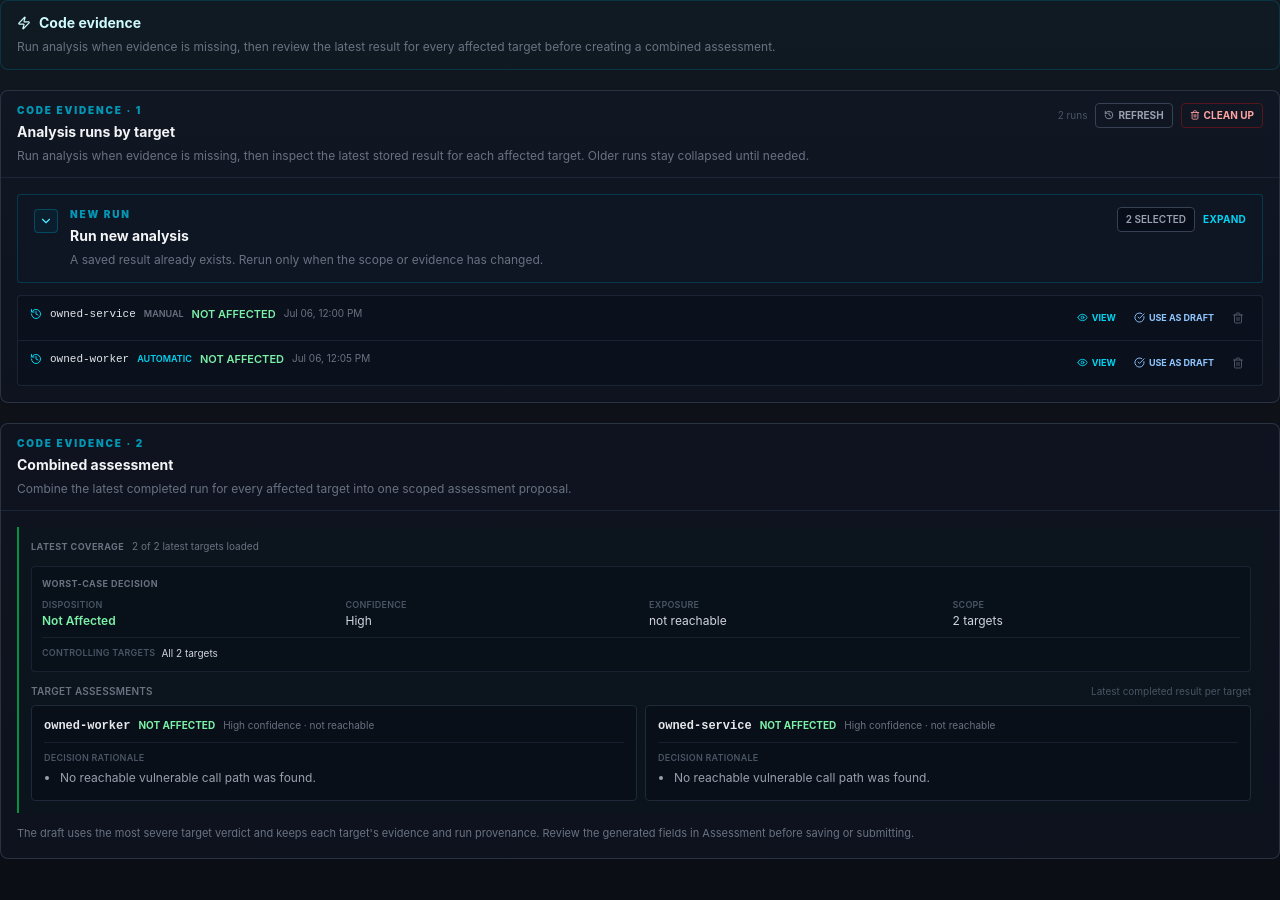
it: CodeAnalysisPanel › removes a saved analysis run from the card history
Click the button named "Remove analysis run" in the row of "Jul 06, 12:00 PM" at (1238, 318), box [1226,306,1250,330]
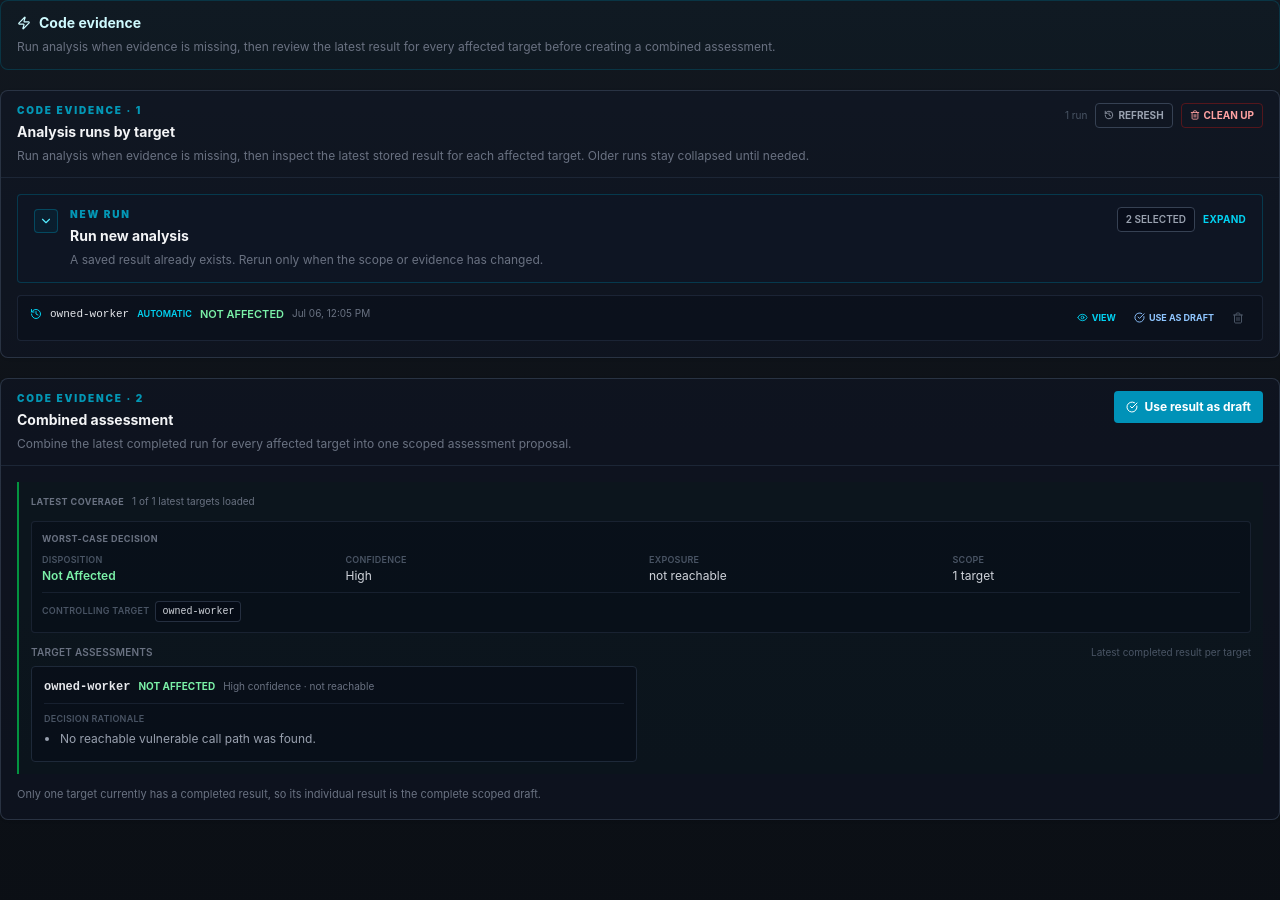
Expected: the text "owned-worker" is shown, [50,306,129,322]
Now the text "owned-service" is gone
